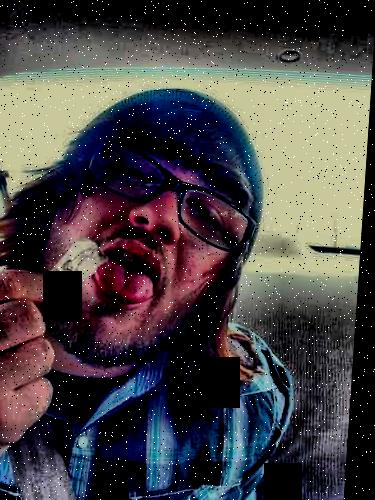seatbelt: (3, 329, 100, 500)
